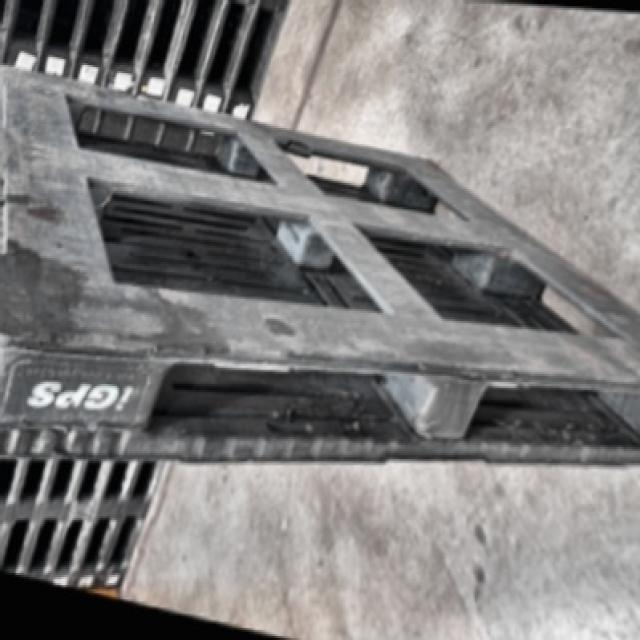igps: (0, 56, 640, 476), (0, 0, 295, 126), (0, 453, 165, 593)
